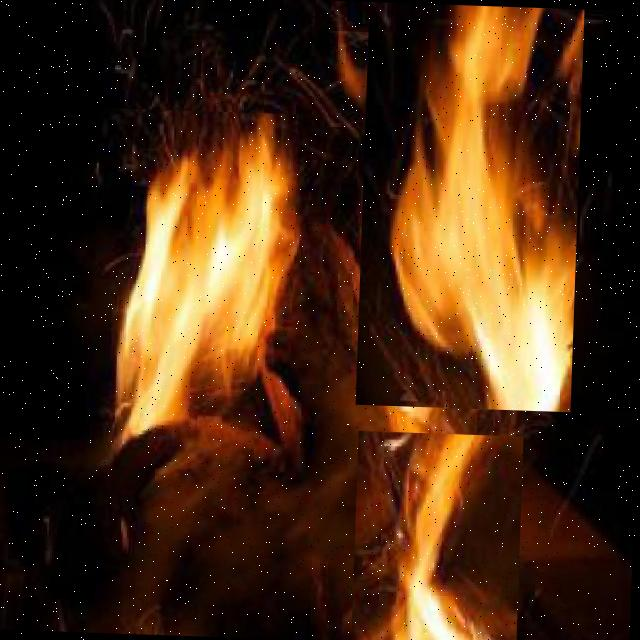fire: (355, 1, 584, 412), (86, 107, 298, 472), (351, 430, 523, 640)
